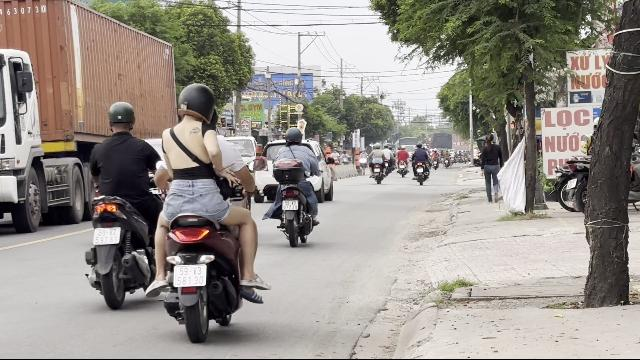helmet: (176, 82, 216, 124), (105, 100, 136, 134), (284, 127, 302, 145)
licenseplate: (174, 265, 206, 287), (93, 228, 121, 244), (282, 200, 298, 210)
motorcyclist: (152, 80, 270, 340), (80, 99, 164, 309), (266, 125, 322, 245)
